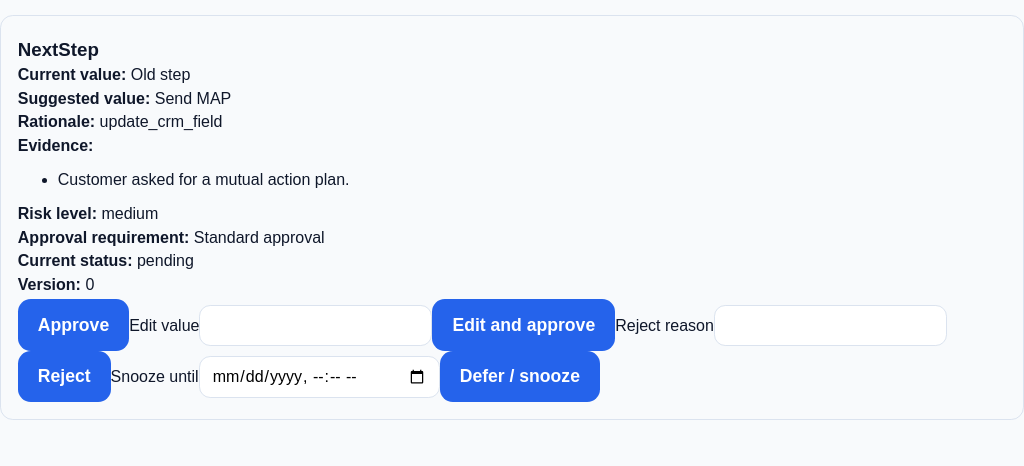
demo recommendation approval UI › renders version conflict refresh prompt from rejected backend response
Click the button "Approve" at [74, 325], box [18,299,129,351]
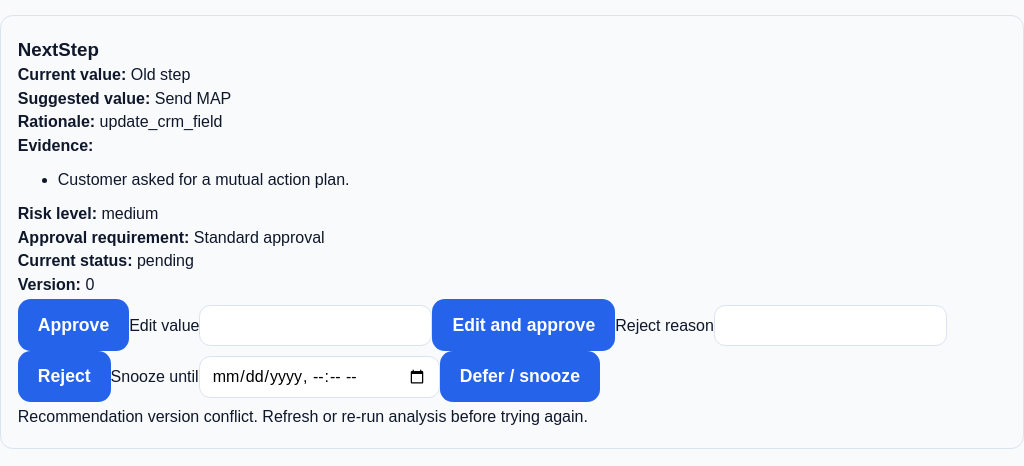
Expected: the text "Refresh or re-run analysis" is shown, [18,408,588,425]
